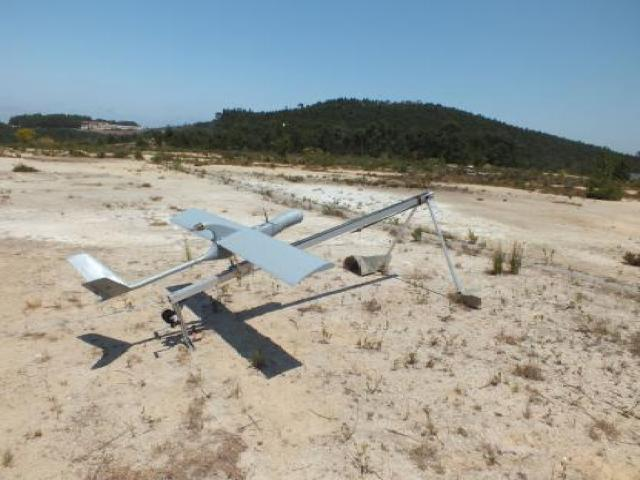uav: (65, 206, 337, 304)
